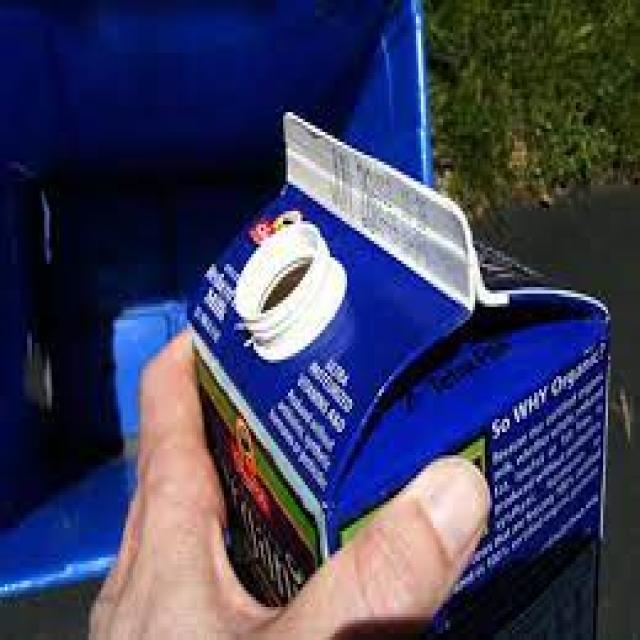cardboard: (196, 113, 609, 640)
